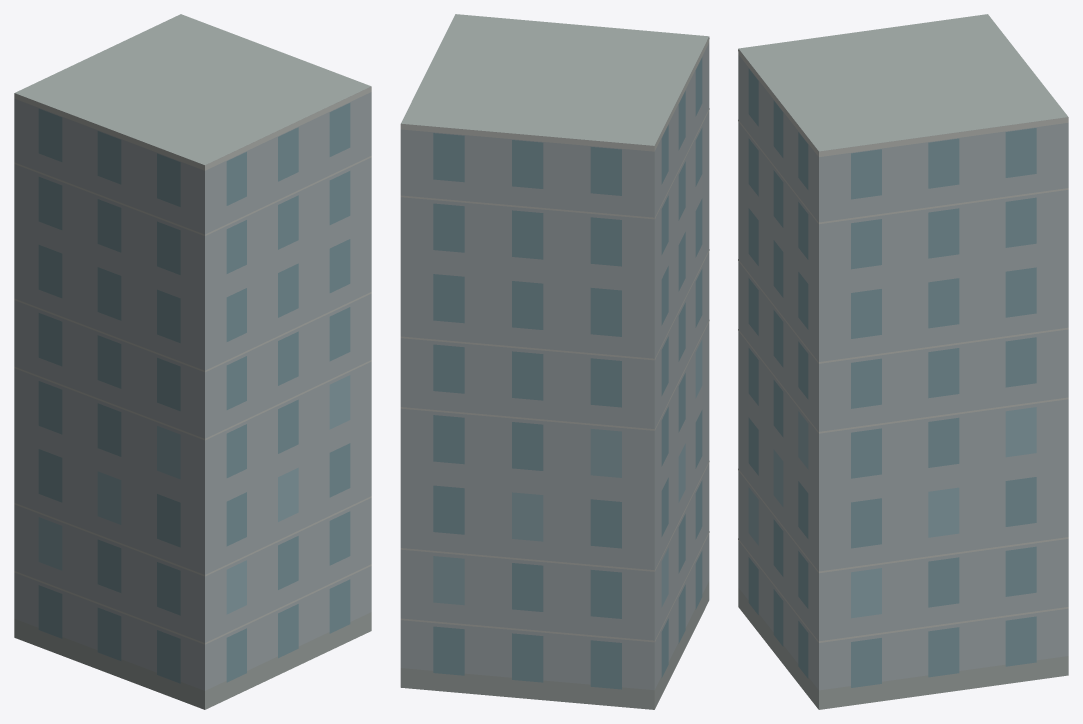
File: survey-upis-32971848.glb
3 renders of one model, left to right at view 1: azimuth 30°, elevation 25°; view 2: azimuth 150°, elevation 25°; view 3: azimuth 270°, elevation 25°, orthographic. The views are drawn at different scales.
Visible parts, largest first — view 1: survey-upis-32971848.tmp; view 2: survey-upis-32971848.tmp; view 3: survey-upis-32971848.tmp.
Part boxes in pixels (box(x1,y1,x2,y2)): survey-upis-32971848.tmp: box(14, 14, 371, 709); survey-upis-32971848.tmp: box(400, 14, 709, 709); survey-upis-32971848.tmp: box(738, 14, 1068, 709).
Bounding box in the file's own units: 12.59 × 23.8 × 12.78.
